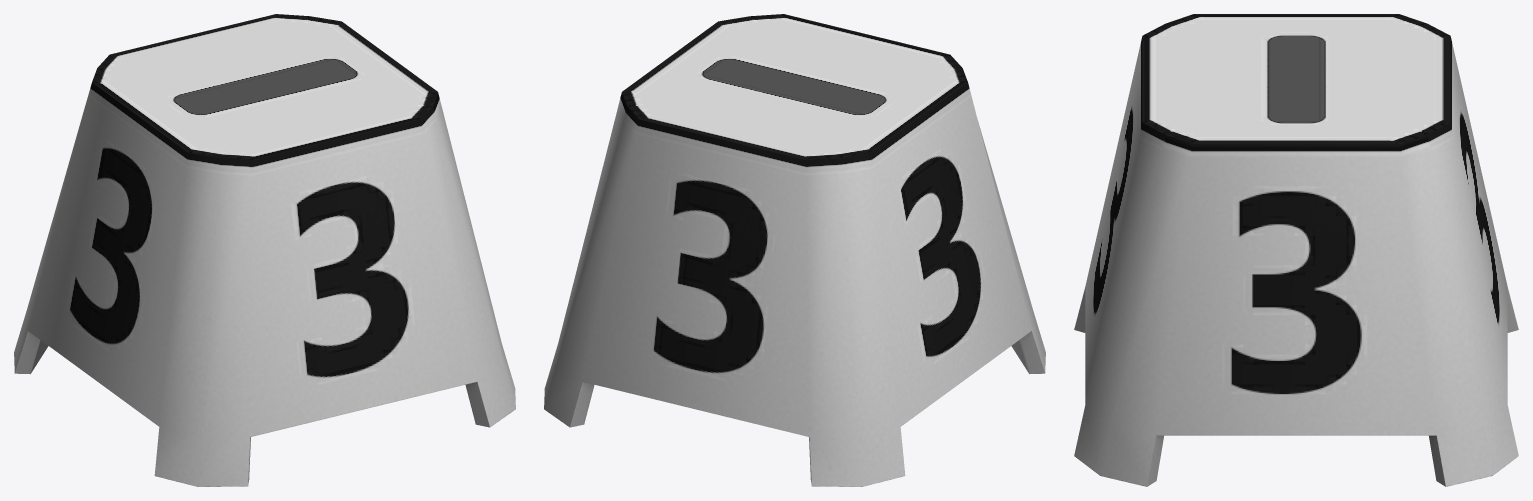
3 views of the same model, side by side, from view 1: azimuth 30°, elevation 25°; view 2: azimuth 150°, elevation 25°; view 3: azimuth 270°, elevation 25° (orthographic). The views are drawn at different scales.
Parts seen in each view (by area): view 1: No_3_Box; view 2: No_3_Box; view 3: No_3_Box.
Boxes of the visible parts, x1,y1,x2,y2 form: No_3_Box: [14, 14, 515, 486]; No_3_Box: [544, 14, 1045, 486]; No_3_Box: [1074, 14, 1518, 486].
Bounding box in the file's own units: 0.4097 × 0.319 × 0.4097.
Materials: 1 (1 with a texture image).
